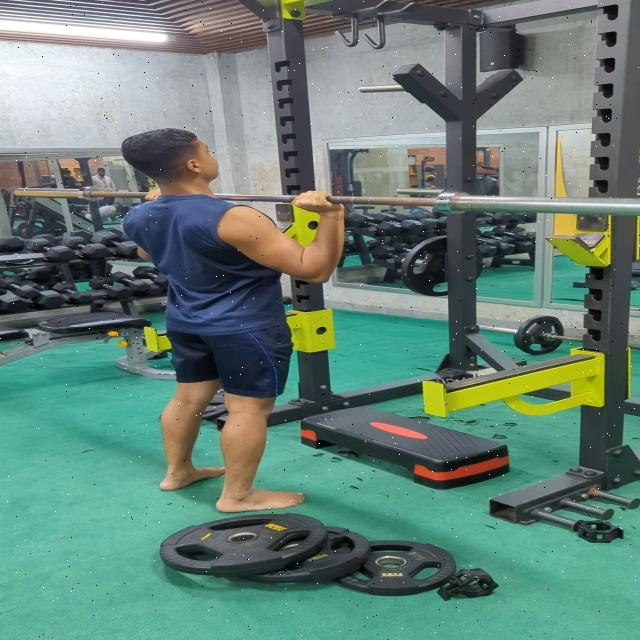Normal_OverheadPress: (101, 127, 376, 520)
